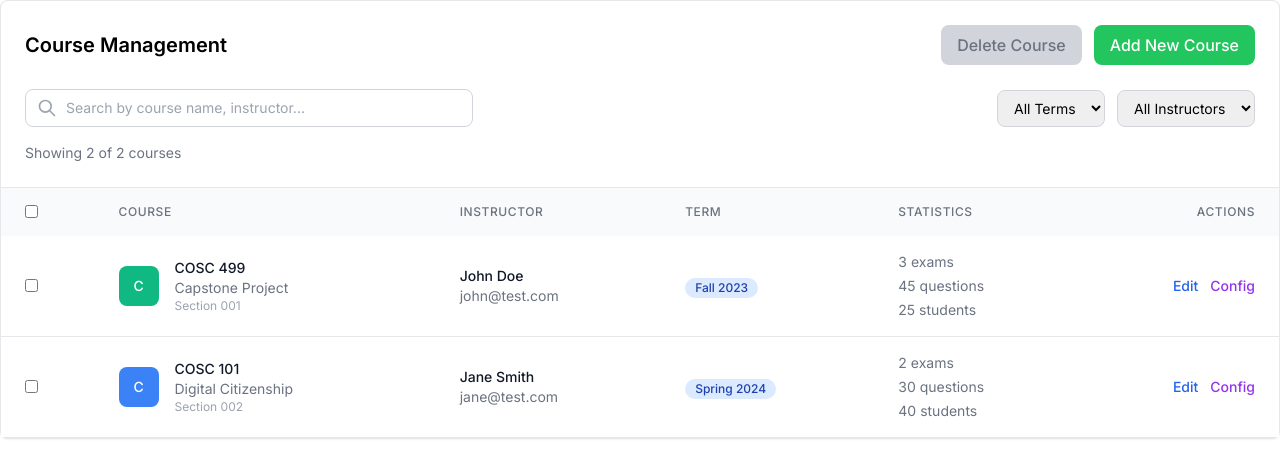
Test: CourseTable › handles select all functionality
Click the checkbox in the row of "Instructor" at x=32, y=212, box [25,205,38,218]
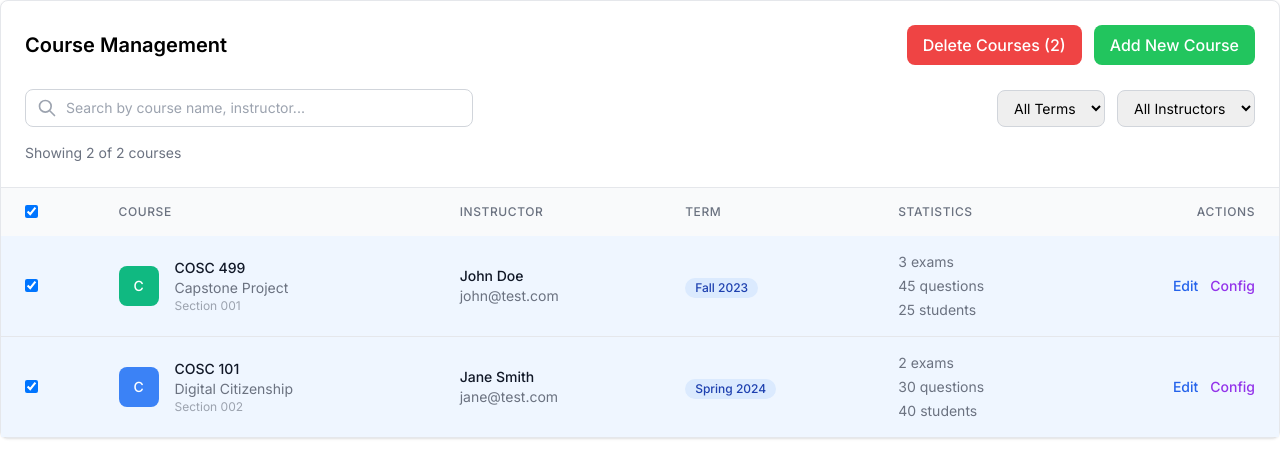
Expected: the checkbox below "COSC 499" is checked, [25,279,38,292]
Expected: the checkbox below "COSC 101" is checked, [25,380,38,393]
